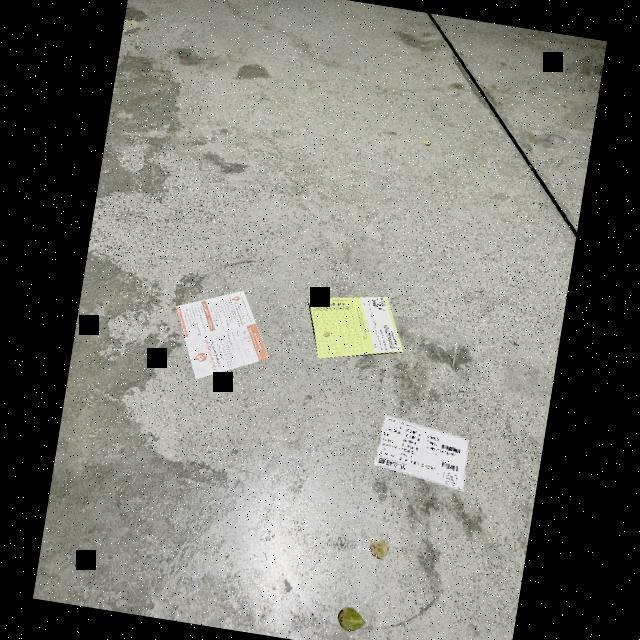scrap_paper: (166, 280, 278, 384), (295, 284, 413, 376), (364, 409, 476, 500)
